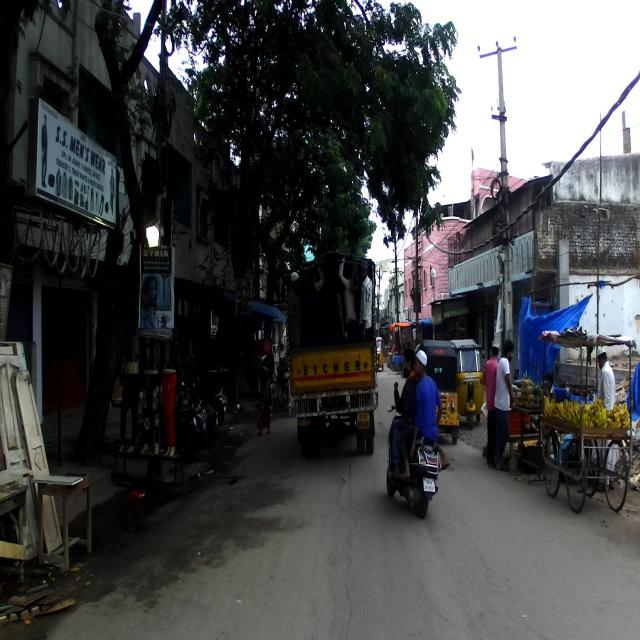scooter: (386, 405, 441, 519), (176, 377, 223, 432), (192, 370, 234, 424), (170, 392, 210, 446)
truck: (281, 244, 383, 456)
